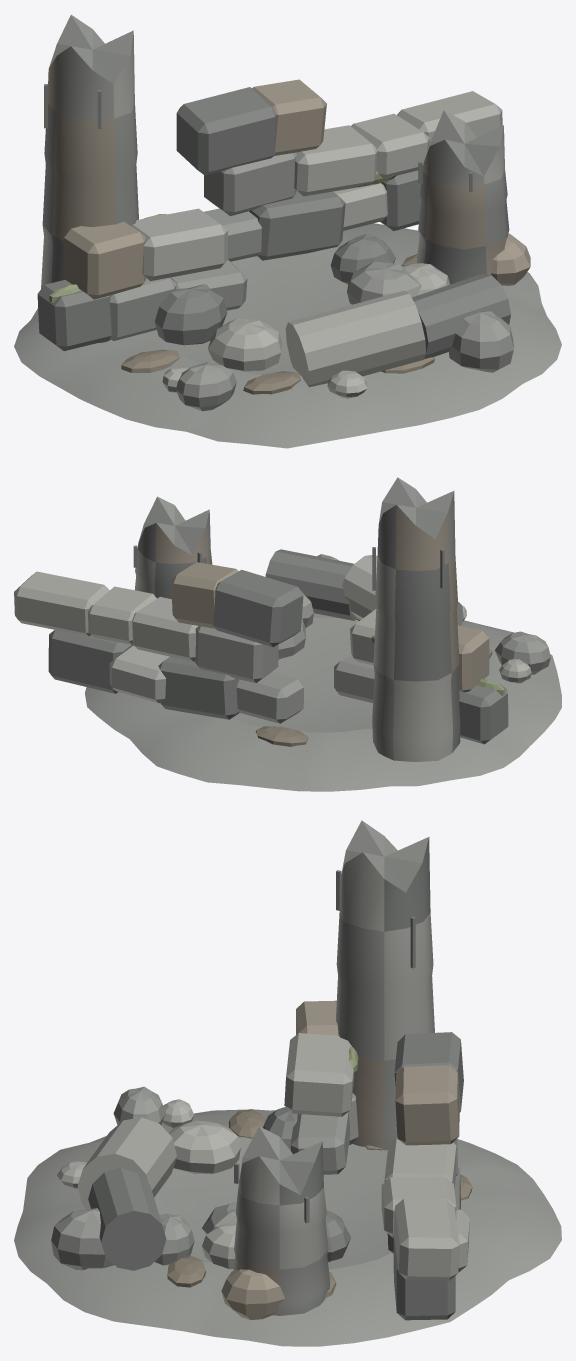
The model's file is ruinas_pedra.glb.
3 renders of one model, top to bottom at view 1: azimuth 30°, elevation 25°; view 2: azimuth 150°, elevation 25°; view 3: azimuth 270°, elevation 25°, orthographic. The views are drawn at different scales.
Parts seen in each view (by area): view 1: Ruína | Veios quentes, Ruína | Terra nas juntas; view 2: Ruína | Veios quentes, Ruína | Terra nas juntas; view 3: Ruína | Veios quentes, Ruína | Terra nas juntas.
Part boxes in pixels (x1,y1,x2,y2): Ruína | Veios quentes: [14, 14, 561, 448]; Ruína | Terra nas juntas: [121, 254, 434, 394]; Ruína | Veios quentes: [14, 477, 561, 791]; Ruína | Terra nas juntas: [255, 617, 492, 746]; Ruína | Veios quentes: [14, 820, 561, 1346]; Ruína | Terra nas juntas: [167, 1109, 472, 1298].
Size of the model in its own units: 2.03 by 1.16 by 1.83.
